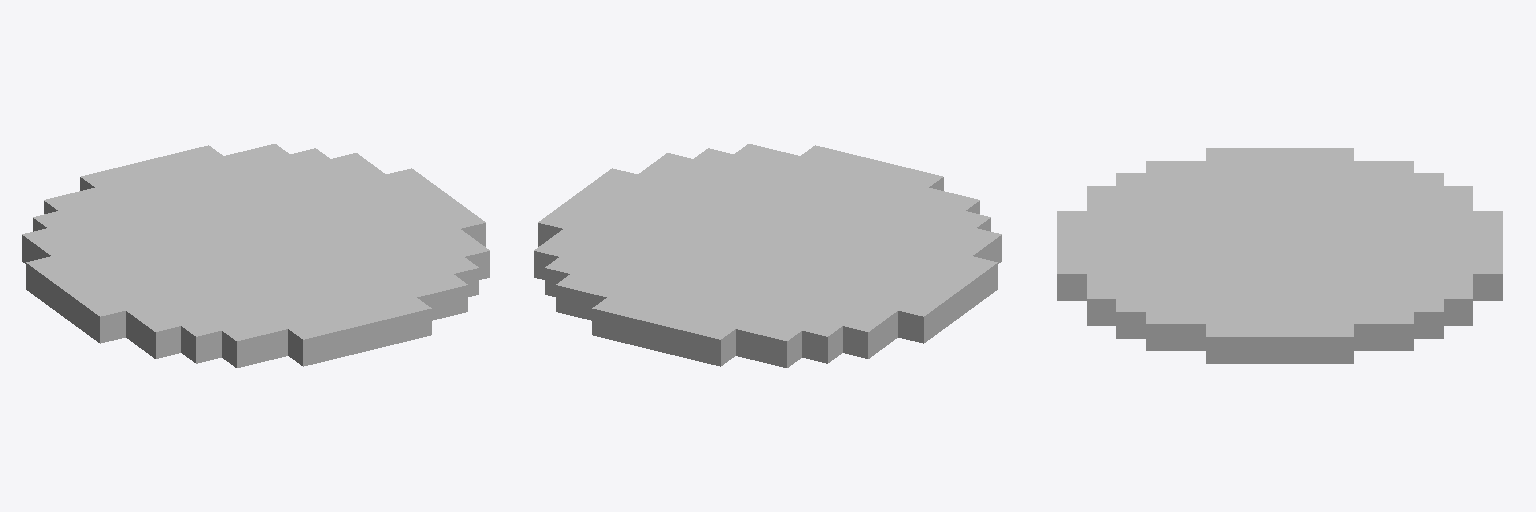
The model's file is coin_remapped64.obj.
3 renders of one model, left to right at view 1: azimuth 30°, elevation 25°; view 2: azimuth 150°, elevation 25°; view 3: azimuth 270°, elevation 25°, orthographic.
Parts seen in each view (by area): view 1: test; view 2: test; view 3: test.
Boxes of the visible parts, x1=… form: test: x1=22, y1=144, x2=489, y2=367; test: x1=534, y1=144, x2=1001, y2=367; test: x1=1057, y1=148, x2=1502, y2=363.
Size of the model in its own units: 15 by 1 by 15.